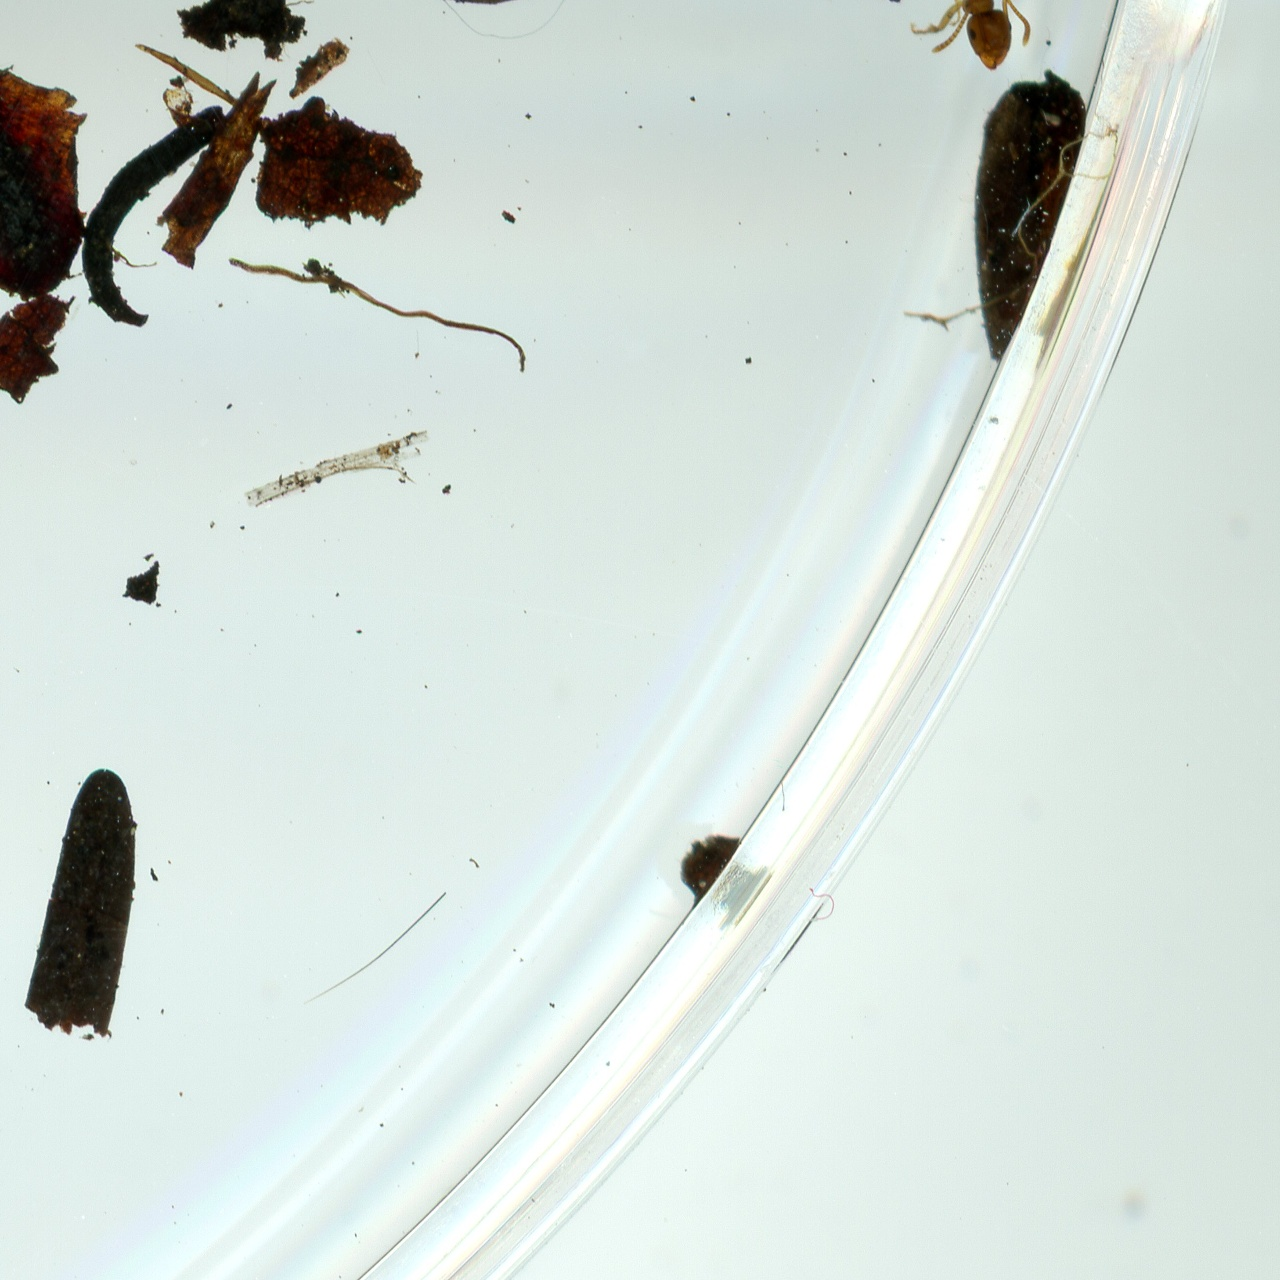arthropod: (910, 0, 1032, 75)
